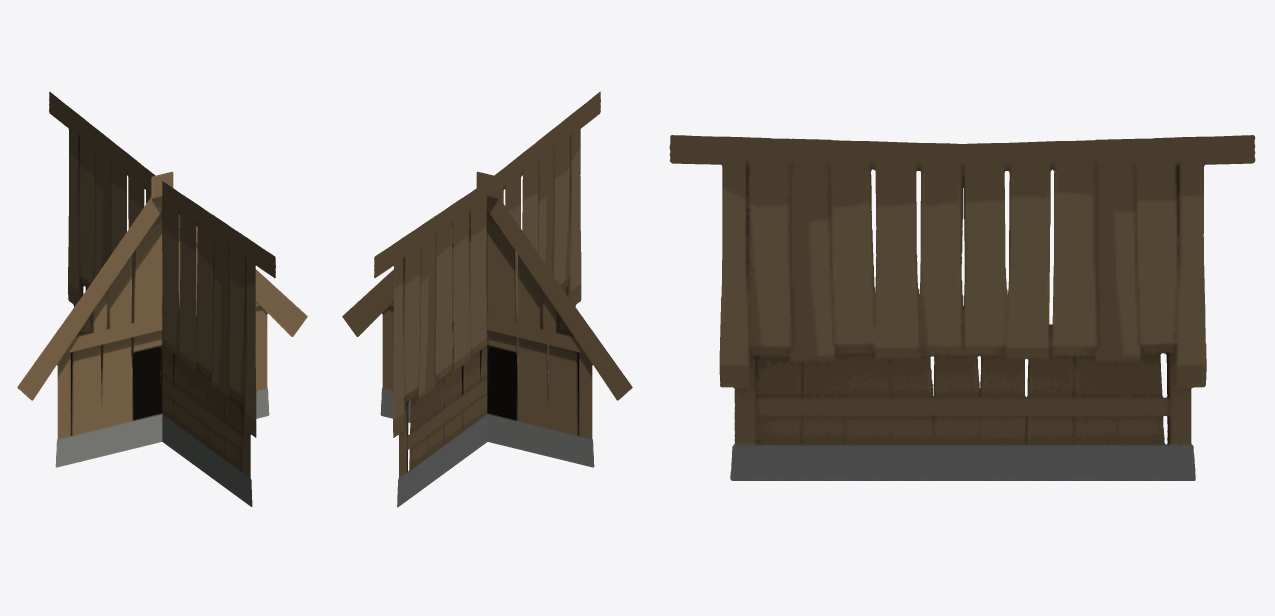
The model's file is hus_bb.glb.
The picture shows the model from 3 angles, left to right: view 1: azimuth 30°, elevation 25°; view 2: azimuth 150°, elevation 25°; view 3: azimuth 270°, elevation 25°; orthographic projection. The views are drawn at different scales.
Parts seen in each view (by area): view 1: house_a_bb; view 2: house_a_bb; view 3: house_a_bb.
Part boxes in pixels (x1,y1,x2,y2): house_a_bb: (17,91,307,506); house_a_bb: (342,91,632,507); house_a_bb: (669,135,1255,480).
Size of the model in its own units: 9.28 by 12.51 by 12.51.
Materials: 1 (1 with a texture image).
